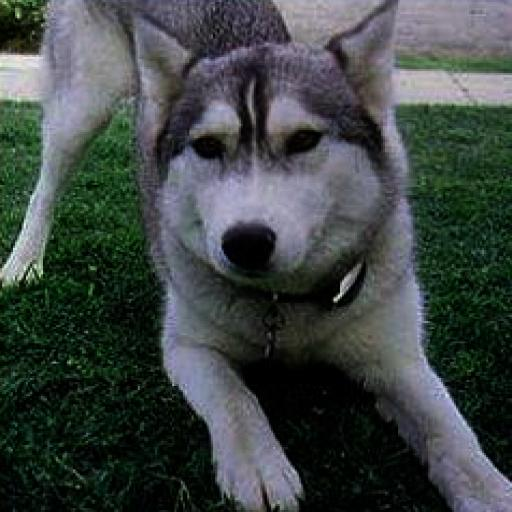dog_face: (121, 7, 413, 286)
